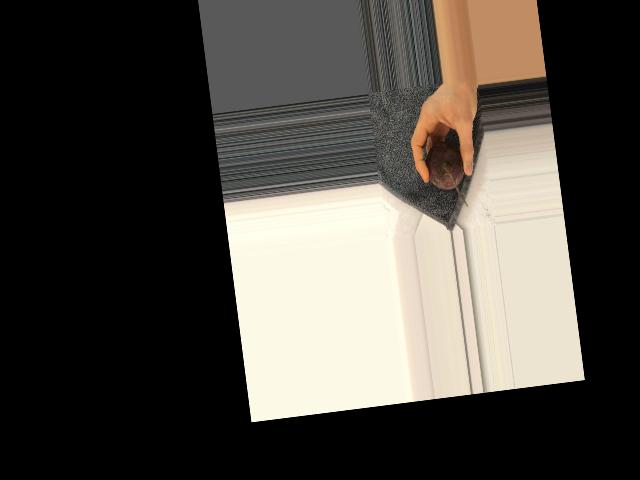beet: (423, 139, 468, 211)
